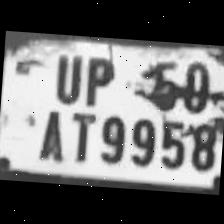0: (176, 53, 214, 110)
5: (154, 112, 188, 168)
8: (185, 113, 219, 172)
9: (125, 108, 158, 166), (94, 106, 128, 162)
A: (32, 102, 68, 162)
P: (80, 52, 118, 104)
T: (61, 106, 96, 164)
U: (45, 47, 83, 102)
